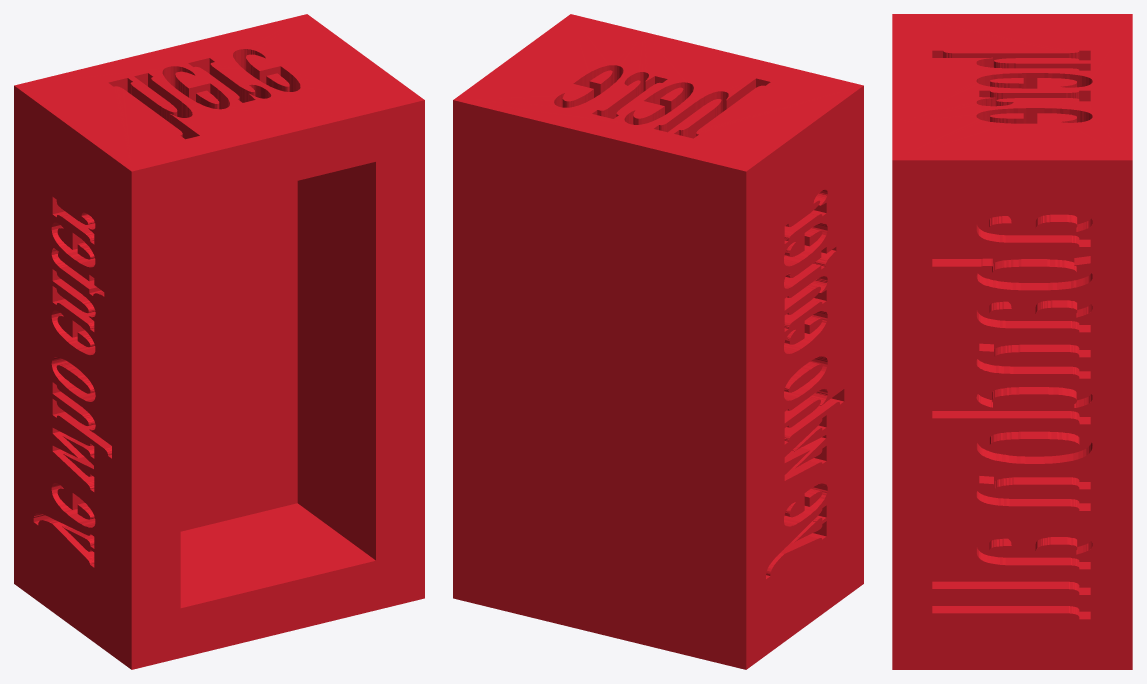
3 renders of one model, left to right at view 1: azimuth 30°, elevation 25°; view 2: azimuth 150°, elevation 25°; view 3: azimuth 270°, elevation 25°, orthographic. The views are drawn at different scales.
Parts seen in each view (by area): view 1: obj_0; view 2: obj_0; view 3: obj_0.
Part boxes in pixels (left/top/right/bottom): obj_0: left=14, top=14, right=424, bottom=669; obj_0: left=453, top=14, right=863, bottom=669; obj_0: left=892, top=14, right=1132, bottom=669.
Size of the model in its own units: 0.0895 by 0.1454 by 0.0622.
